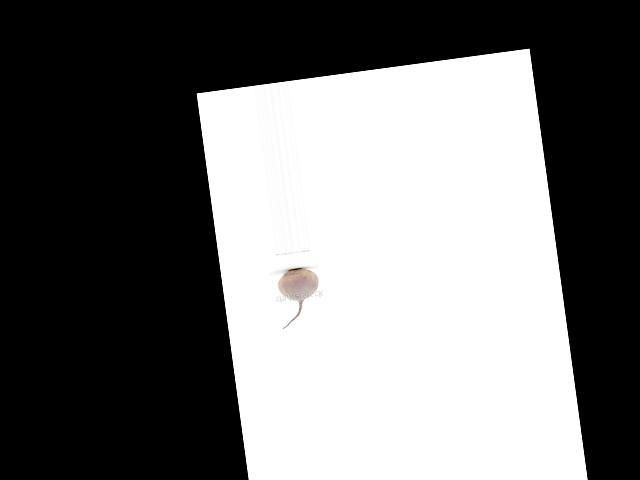beet: (275, 265, 325, 329)
